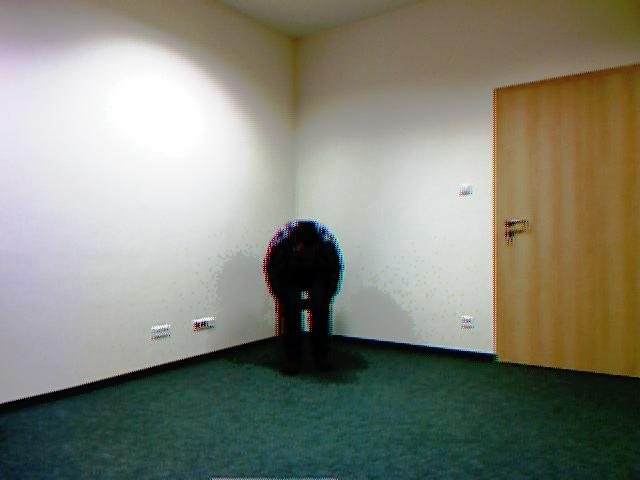bending: (261, 209, 357, 385)
